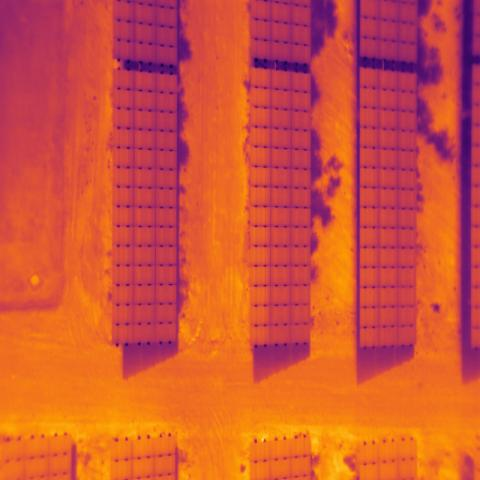fault: (250, 67, 271, 345)
